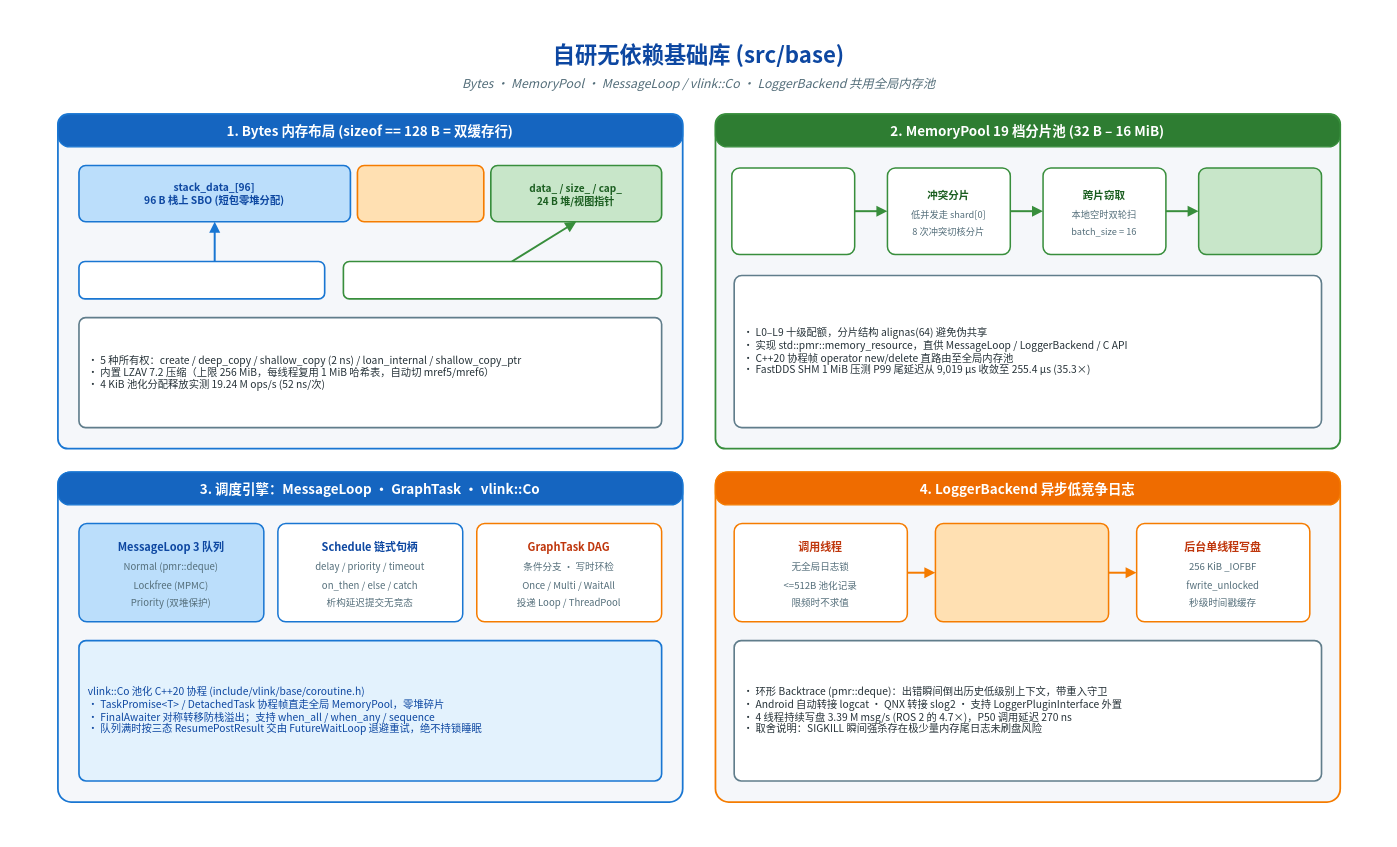
This 1397x847 diagram has some shape labels left out. The centre of each missing label's shape, as x and y in pixels:
data() = real_data() + offset_ (原地加头): point (502, 279)
kProtected 队列 Error / Fatal 与 flush 屏障免疫 洪峰淘汰丢弃: point (1021, 572)
meta (8 B) flags + offset_: point (420, 193)
O(1) 查表 __builtin_clzll log2_dispatch[65]: point (793, 211)
real_data() 指向 SBO 或堆: point (201, 279)
锁外 trim() 仅摘链短锁 归并/delete 无锁: point (1259, 211)
